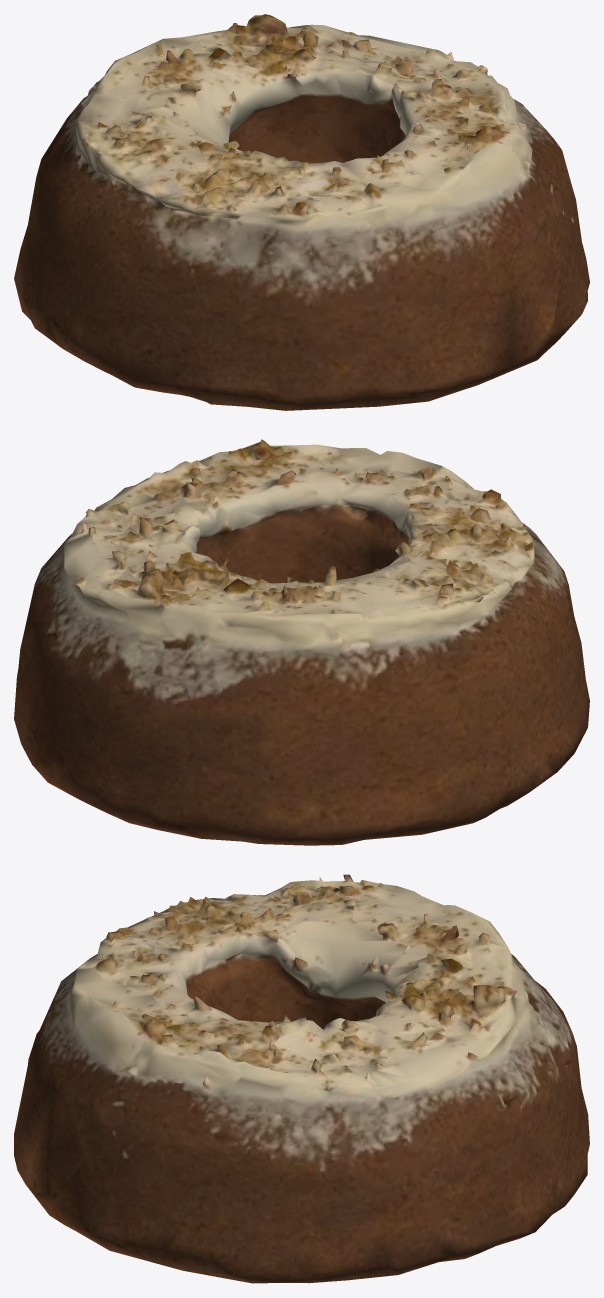
File: carrot_cake.glb
The picture shows the model from 3 angles, top to bottom: view 1: azimuth 30°, elevation 25°; view 2: azimuth 150°, elevation 25°; view 3: azimuth 270°, elevation 25°; orthographic projection. The views are drawn at different scales.
Visible parts, largest first — view 1: carrot_cake; view 2: carrot_cake; view 3: carrot_cake.
Part boxes in pixels (box(x1,y1,x2,y2)): carrot_cake: box(14, 14, 589, 410); carrot_cake: box(14, 439, 589, 845); carrot_cake: box(14, 874, 589, 1283).
Bounding box in the file's own units: 0.2254 × 0.0976 × 0.2254.
1 material, 1 textured.
